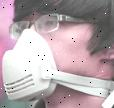with_mask: (1, 1, 114, 108)
